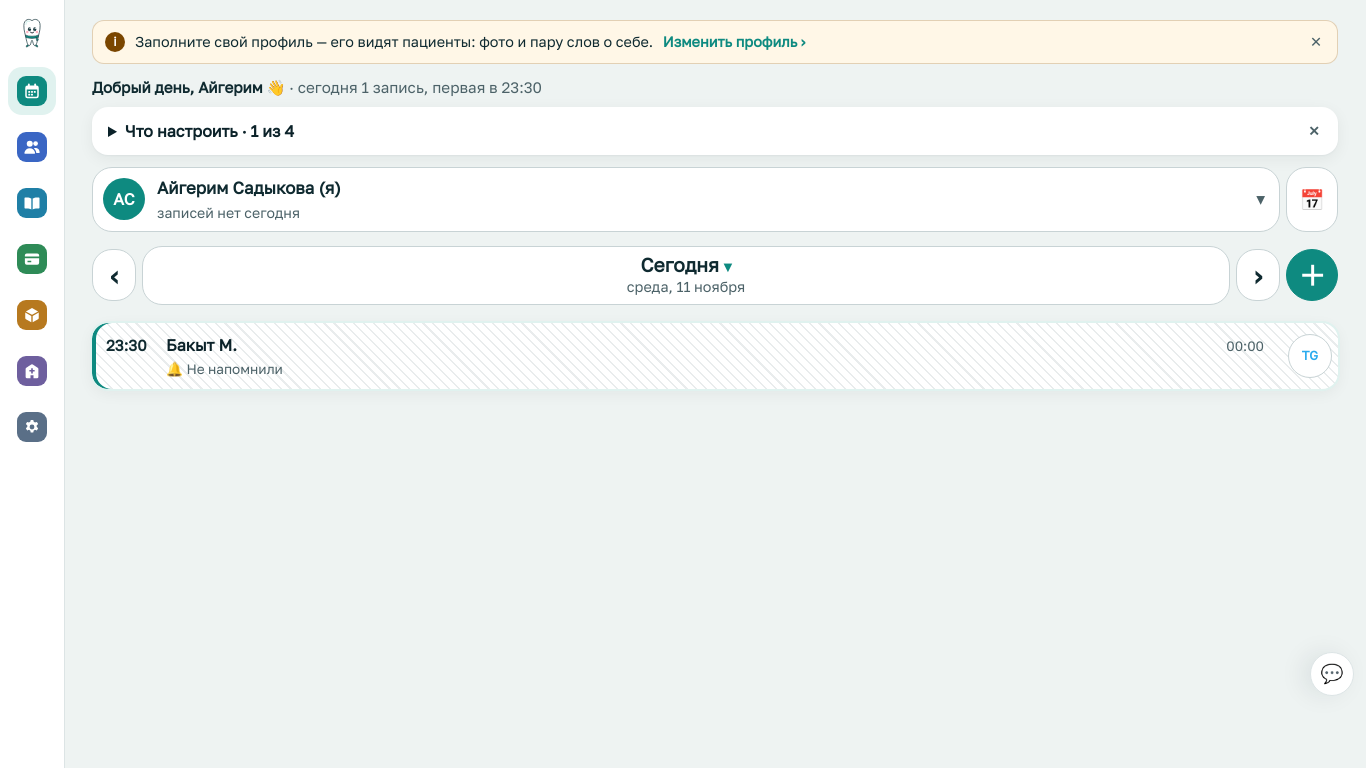
Test: телефон: быстрое «TG» не прошло — ошибка под приёмом, кнопка остаётся
This screenshot has width=1366, height=768.
Click the button with aria-label "Напомнить в Telegram: Бакыт М.".
click(1310, 356)  # box [1288,334,1332,378]
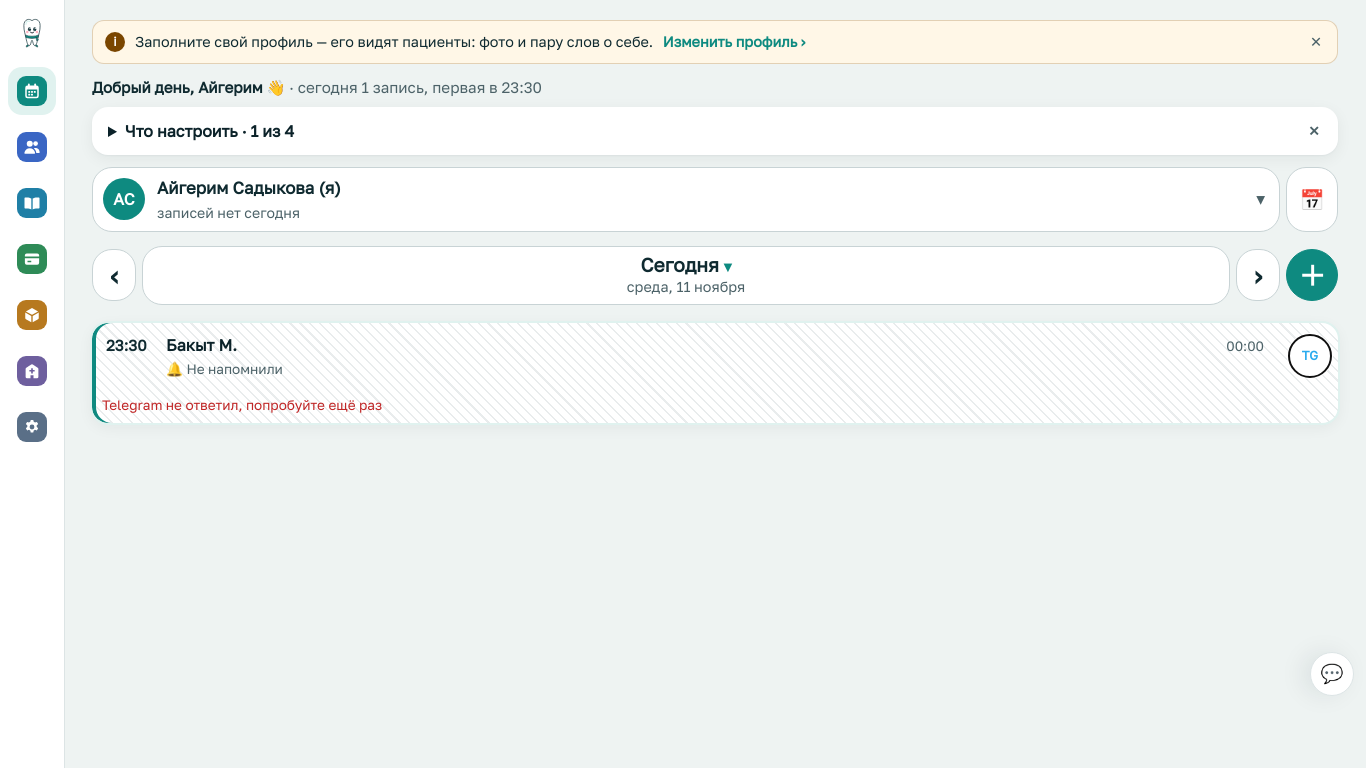
Result: the message shows "Telegram не ответил" at [102,397,382,413]
